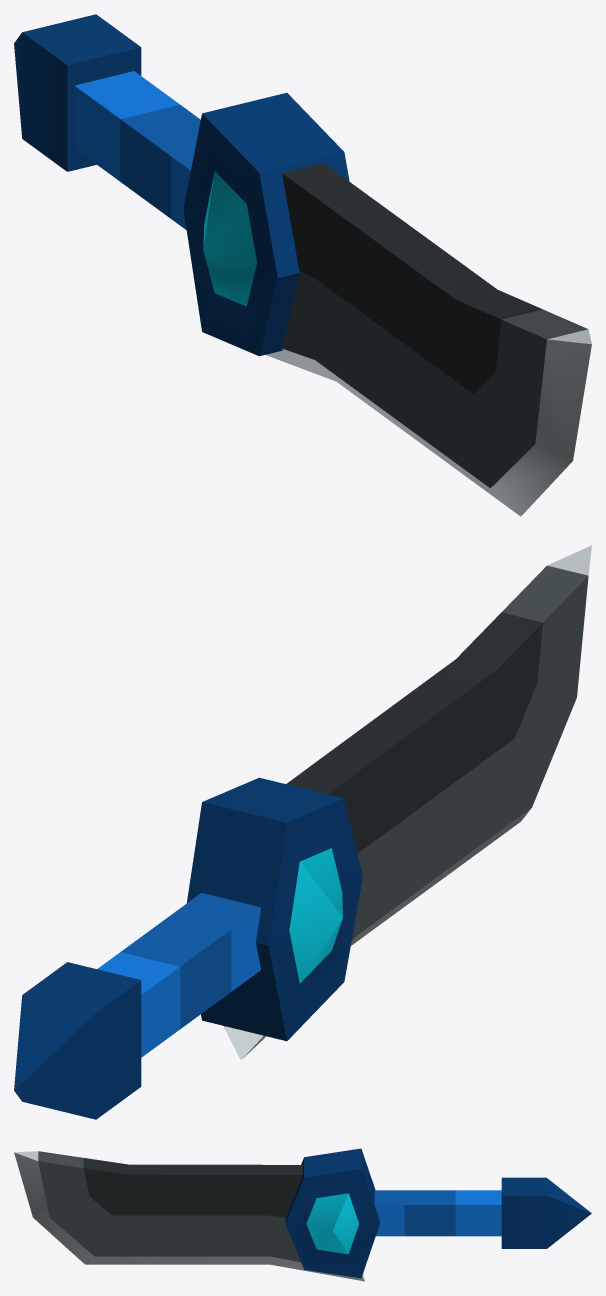
The model's file is Sword 05.FBX.
The picture shows the model from 3 angles, top to bottom: view 1: azimuth 30°, elevation 25°; view 2: azimuth 150°, elevation 25°; view 3: azimuth 270°, elevation 25°; orthographic projection. The views are drawn at different scales.
Parts seen in each view (by area): view 1: Sword 05; view 2: Sword 05; view 3: Sword 05.
Boxes of the visible parts, x1,y1,x2,y2 form: Sword 05: (14, 14, 591, 516); Sword 05: (14, 545, 591, 1119); Sword 05: (14, 1148, 591, 1281).
Size of the model in its own units: 13.7 by 24.21 by 98.17.
Materials: 1 (1 with a texture image).
